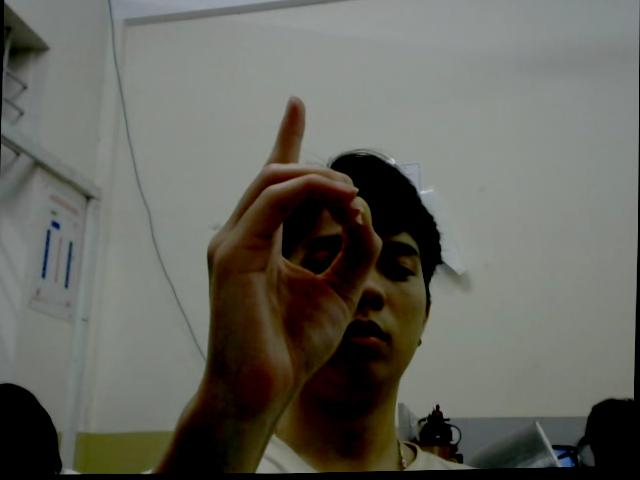D: (201, 89, 386, 396)
